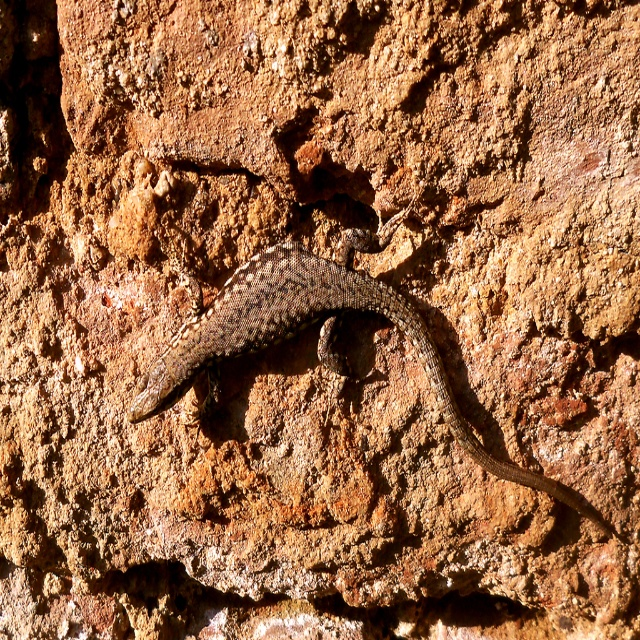Lizard: (127, 243, 616, 539)
